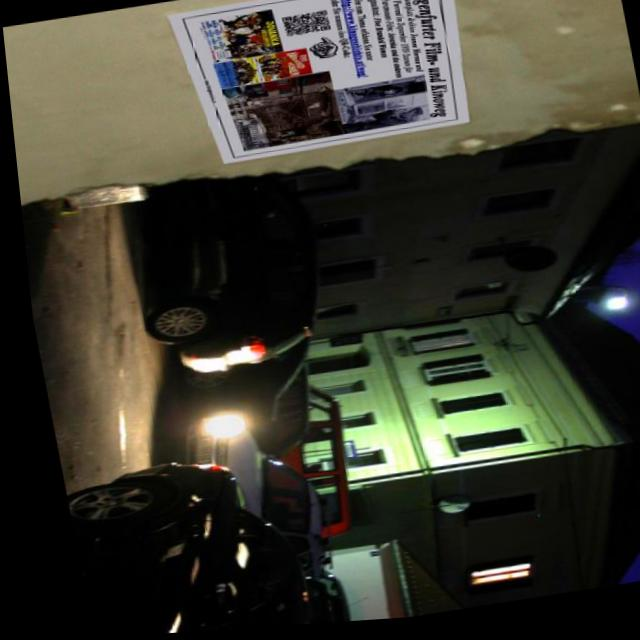qrcode: (280, 14, 330, 41)
